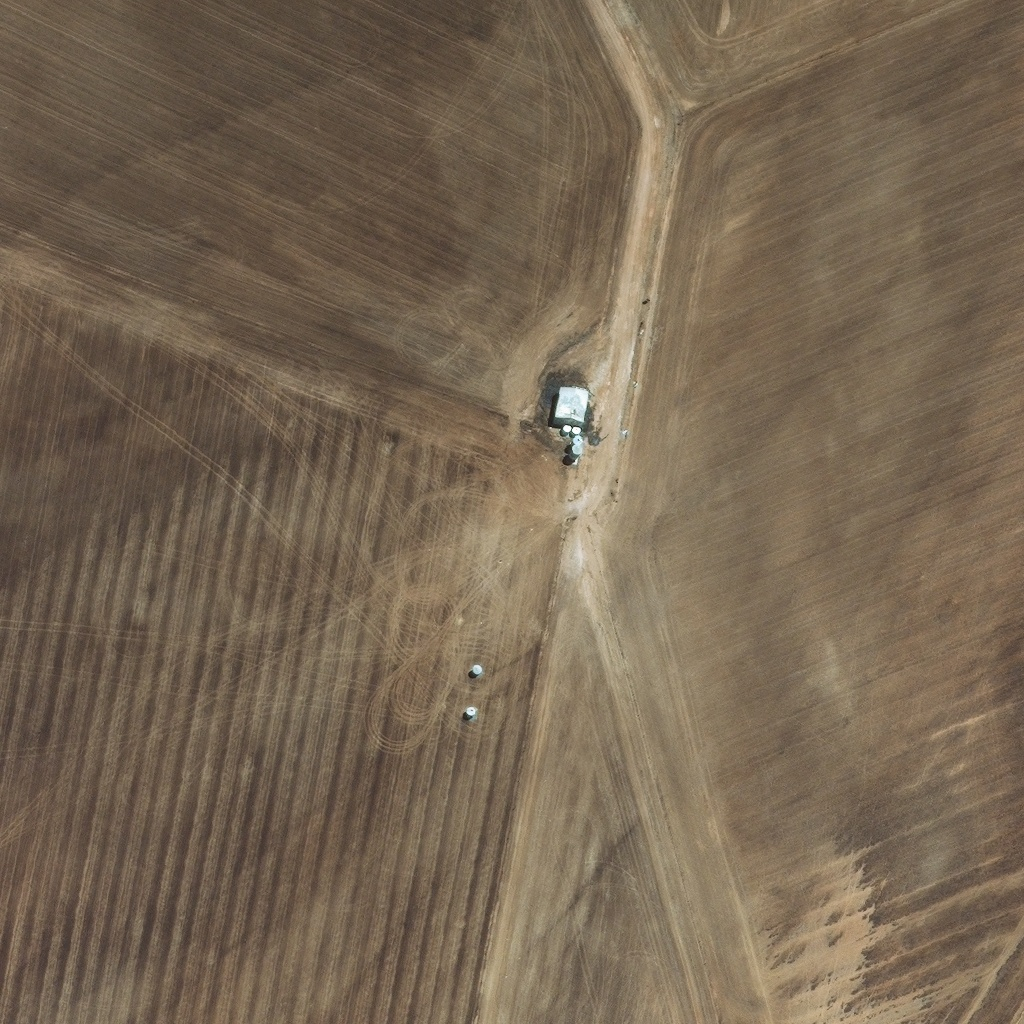0 no-damage: (570, 451, 582, 461), (570, 441, 580, 451)
1 minor-damage: (552, 388, 588, 428)
